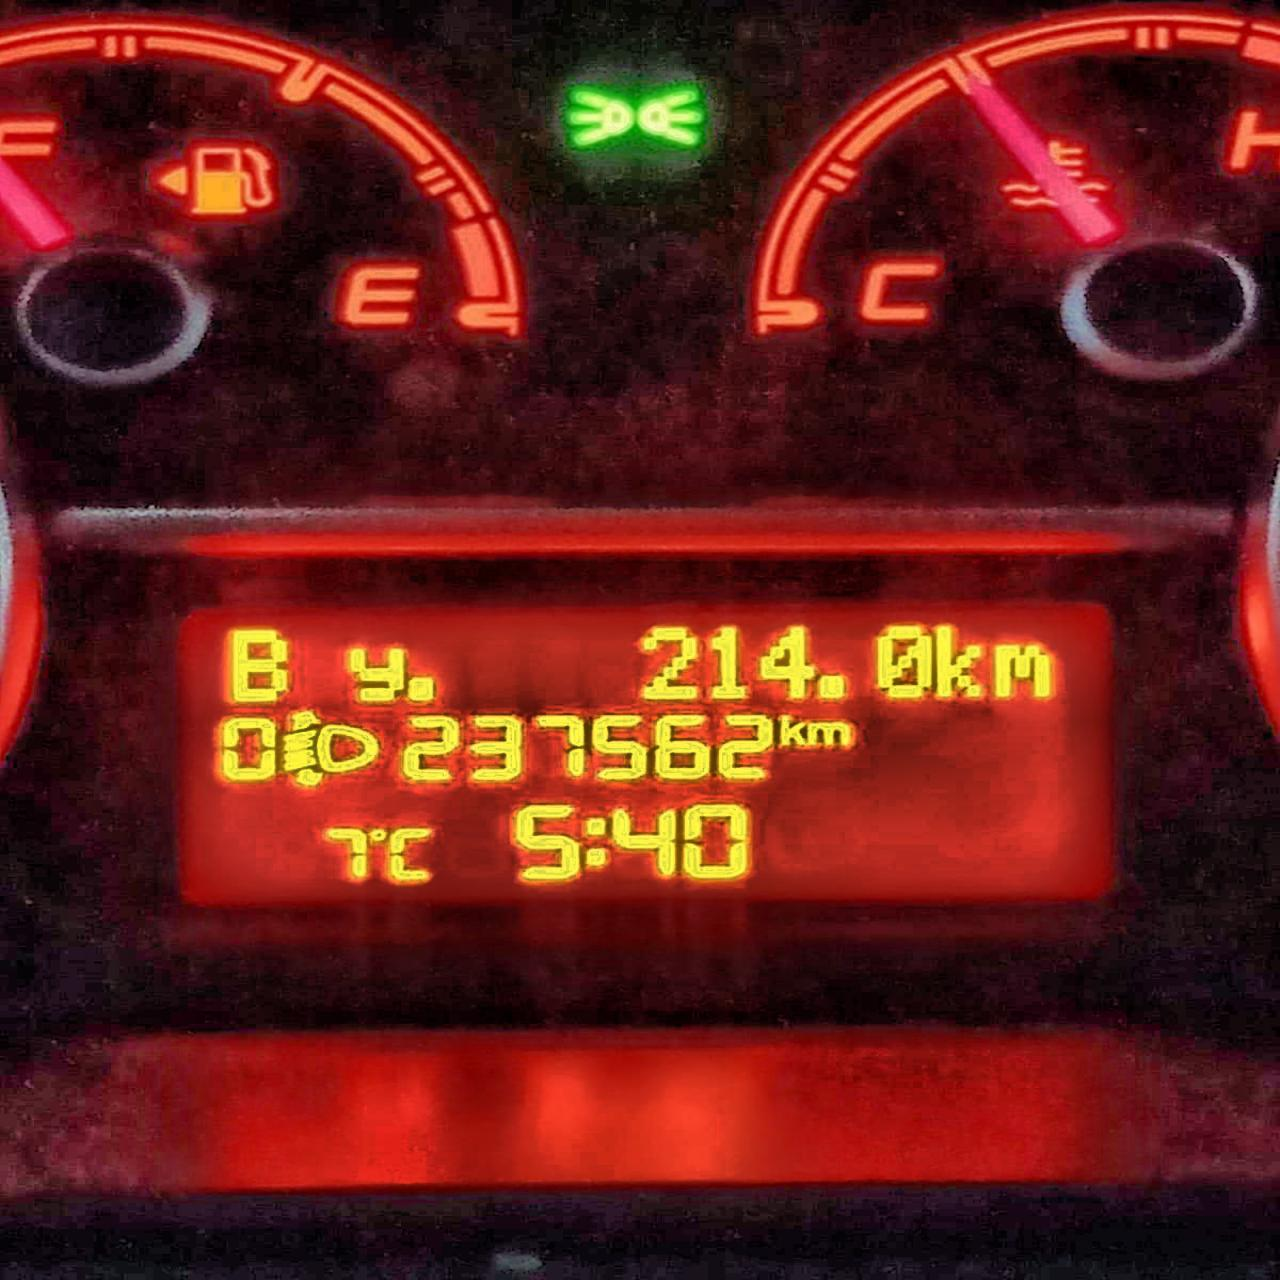-: (813, 673, 849, 701), (404, 675, 437, 703)
0: (681, 802, 749, 880), (872, 624, 931, 701), (217, 715, 279, 783)
1: (707, 624, 749, 701)
2: (636, 622, 701, 700), (399, 715, 461, 783), (716, 713, 775, 779)
3: (464, 713, 523, 782)
4: (607, 806, 680, 878), (757, 625, 815, 700)
5: (510, 803, 583, 883), (588, 714, 648, 781)
6: (651, 714, 710, 781)
7: (530, 713, 587, 777), (321, 826, 372, 881)
X: (226, 626, 292, 706), (932, 622, 987, 700), (341, 646, 409, 703), (990, 641, 1054, 700), (386, 825, 433, 883), (580, 816, 610, 869), (805, 720, 852, 747), (777, 714, 808, 747)
odometer: (170, 595, 1122, 908)
